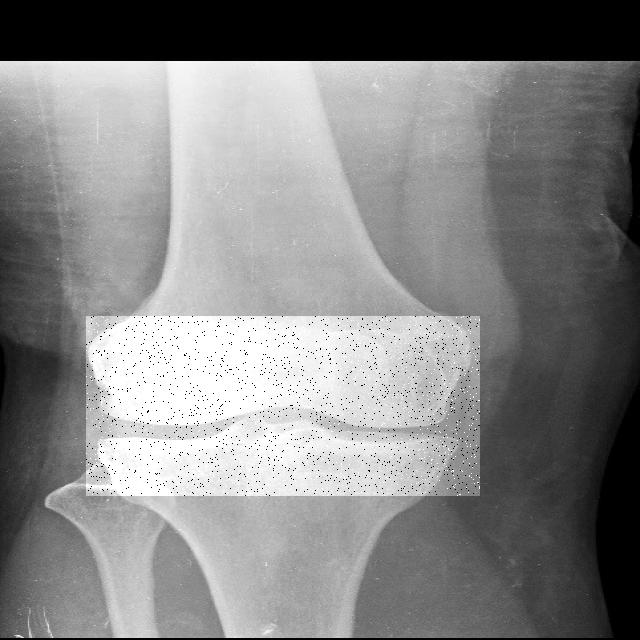normal: (87, 316, 480, 496)
